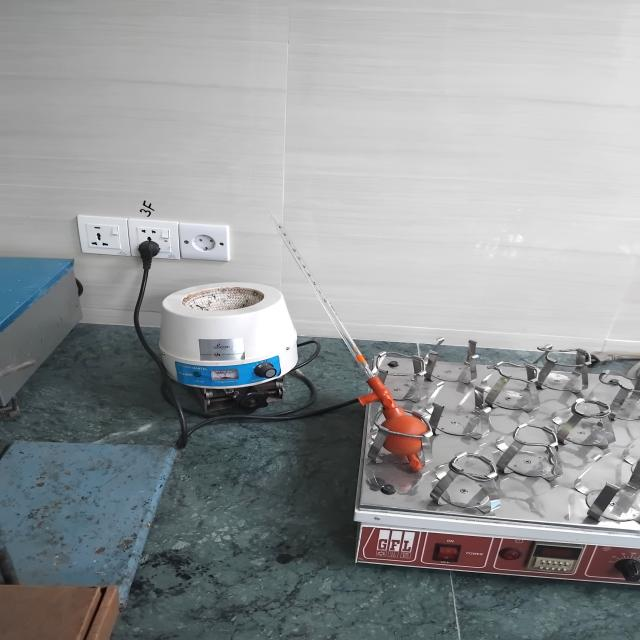Volumetric_Pipet: (252, 199, 434, 483)
